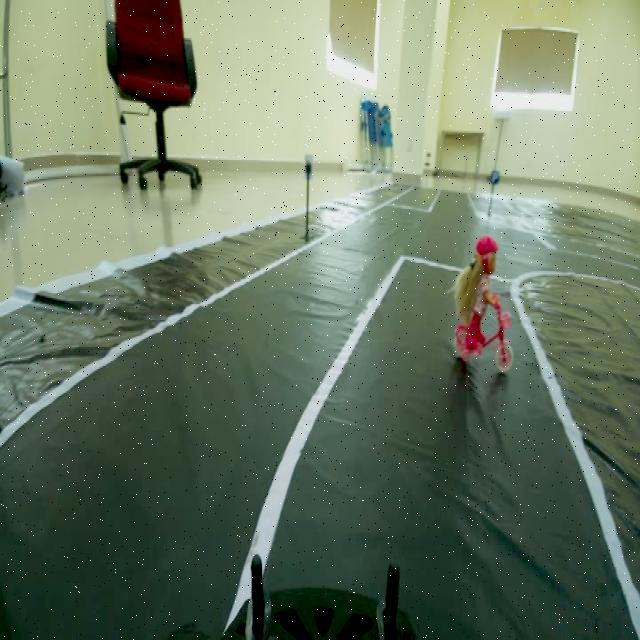pedestrian: (450, 220, 517, 382)
